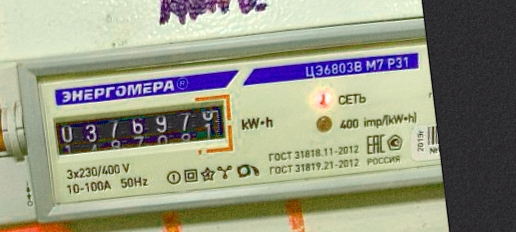0: (59, 122, 74, 143)
1: (202, 120, 215, 139)
3: (83, 121, 98, 142)
6: (129, 112, 145, 135)
7: (105, 116, 121, 139), (177, 109, 192, 132)
9: (153, 112, 168, 134)
screen: (44, 88, 240, 173)
